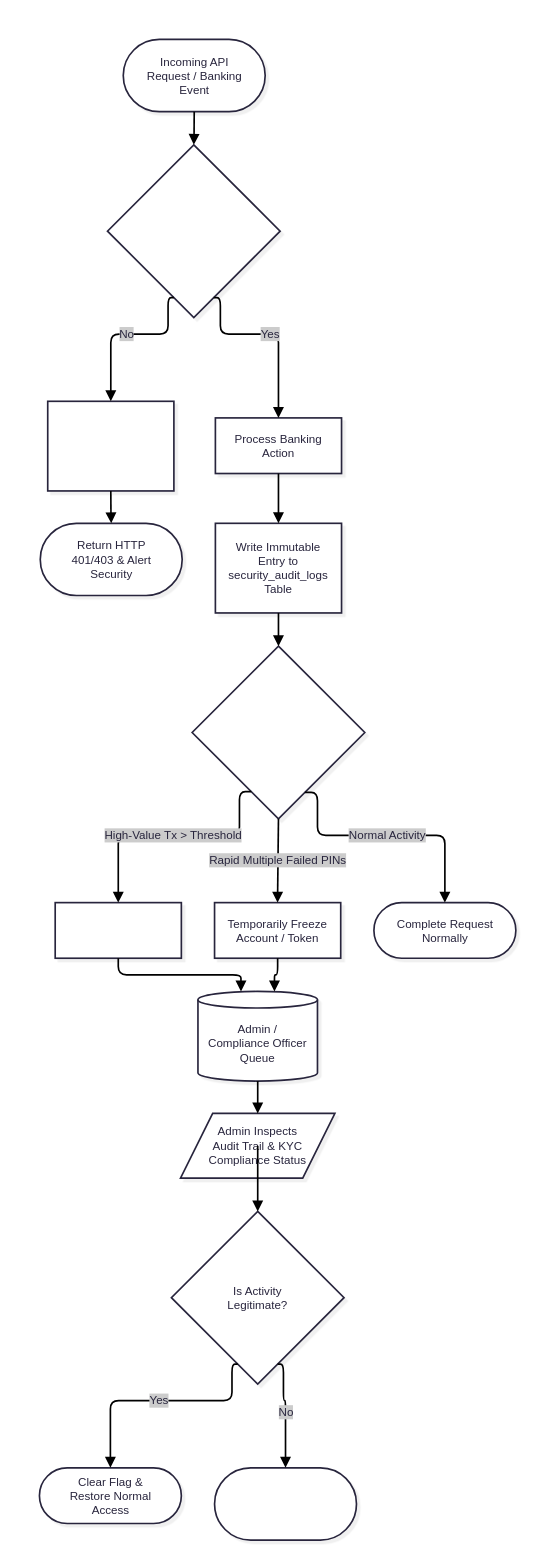
This 534x1558 diagram has some shape labels left out. Each missing label, with the centre of its shape:
Check Compliance & Fraud Rules: the point at 280,734
Enforce Account Freeze & Generate Compliance Report: the point at 286,1505
Flag Transaction for Compliance Review: the point at 119,931
Record Unauthorized Access Attempt, IP & User-Agent: the point at 112,447
Valid JWT & Role Permission?: the point at 195,232
